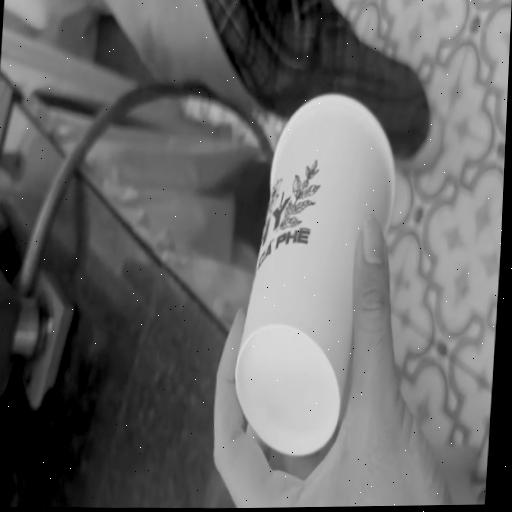Ly_giay: (236, 95, 394, 454)
